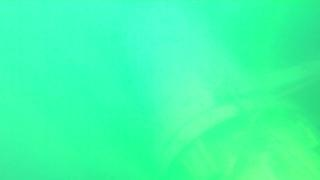pipe: (100, 1, 320, 180)
